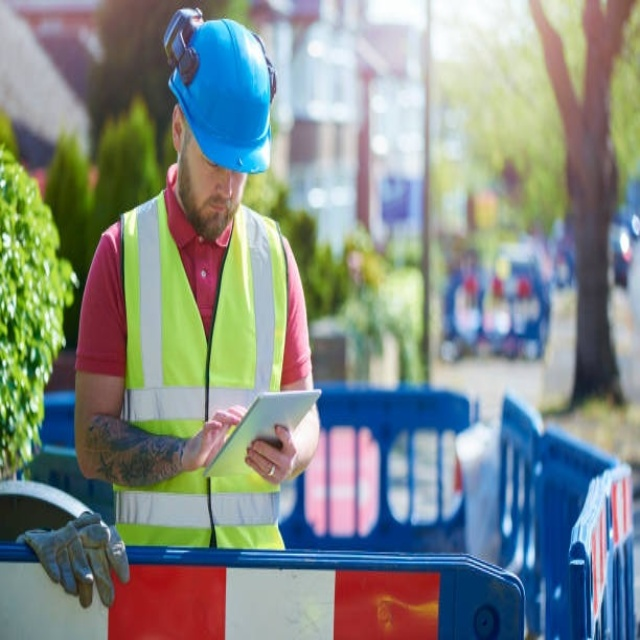Sin_guantes: (189, 404, 250, 473), (245, 420, 299, 484)
Sin_mascara: (198, 190, 238, 234)
